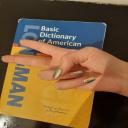PeaceSign: (0, 37, 120, 100)
